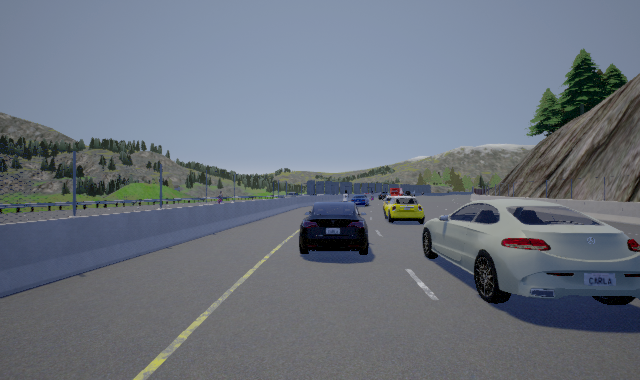vehicle: (422, 199, 640, 305), (299, 195, 370, 255), (378, 188, 425, 224)
